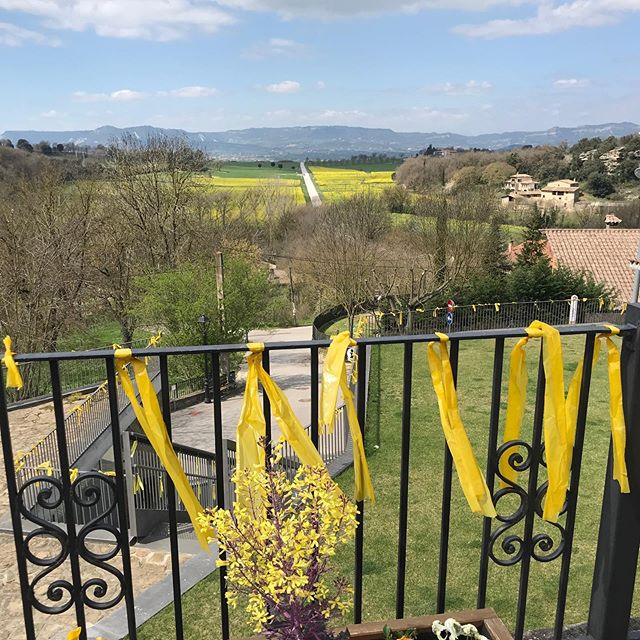building: (513, 173, 595, 223)
sky: (1, 1, 640, 122)
tree: (1, 184, 120, 367), (91, 129, 211, 248)
vegetation: (208, 191, 507, 311), (508, 123, 640, 174), (425, 156, 516, 209)
